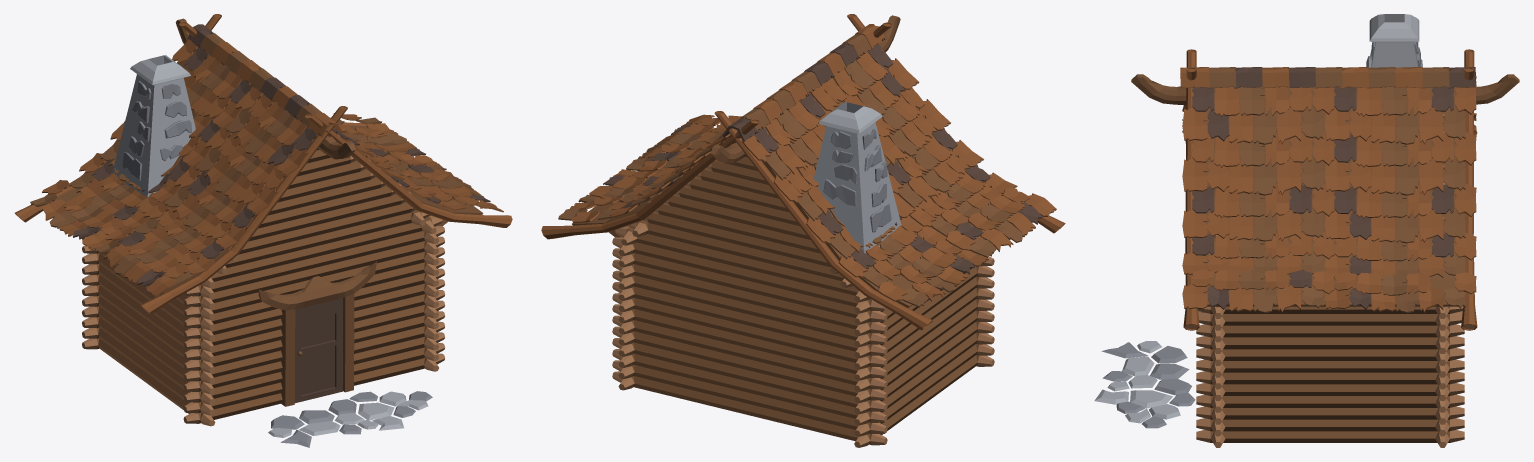
3 renders of one model, left to right at view 1: azimuth 30°, elevation 25°; view 2: azimuth 150°, elevation 25°; view 3: azimuth 270°, elevation 25°, orthographic. The views are drawn at different scales.
Visible parts, largest first — view 1: Base; view 2: Base; view 3: Base.
Boxes of the visible parts, x1,y1,x2,y2 form: Base: (15,14,512,447); Base: (541,14,1065,447); Base: (1094,14,1519,447).
Bounding box in the file's own units: 2457 × 1871 × 2220.
